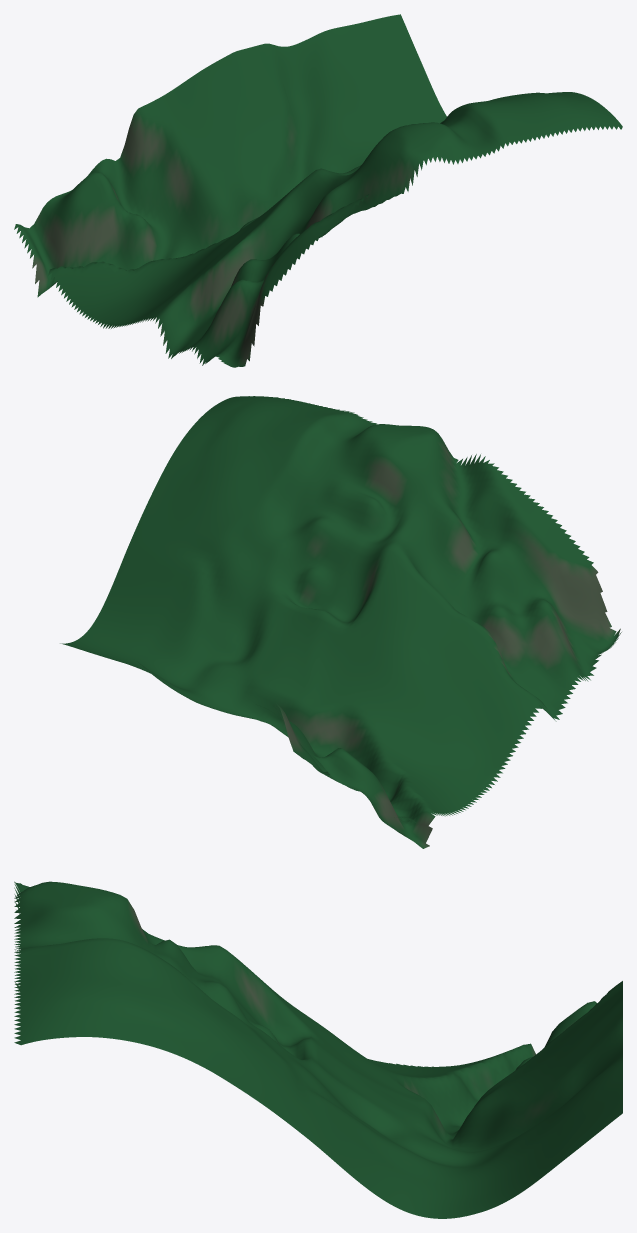
The model's file is payo_land_xm2_y1.glb.
3 views of the same model, one above another, from view 1: azimuth 30°, elevation 25°; view 2: azimuth 150°, elevation 25°; view 3: azimuth 270°, elevation 25° (orthographic). The views are drawn at different scales.
Visible parts, largest first — view 1: payo_land_xm2_y1; view 2: payo_land_xm2_y1; view 3: payo_land_xm2_y1.
Part boxes in pixels (x1,y1,x2,y2): payo_land_xm2_y1: (14, 14, 622, 367); payo_land_xm2_y1: (60, 396, 621, 848); payo_land_xm2_y1: (14, 881, 622, 1218).
Size of the model in its own units: 258 by 154 by 258.
